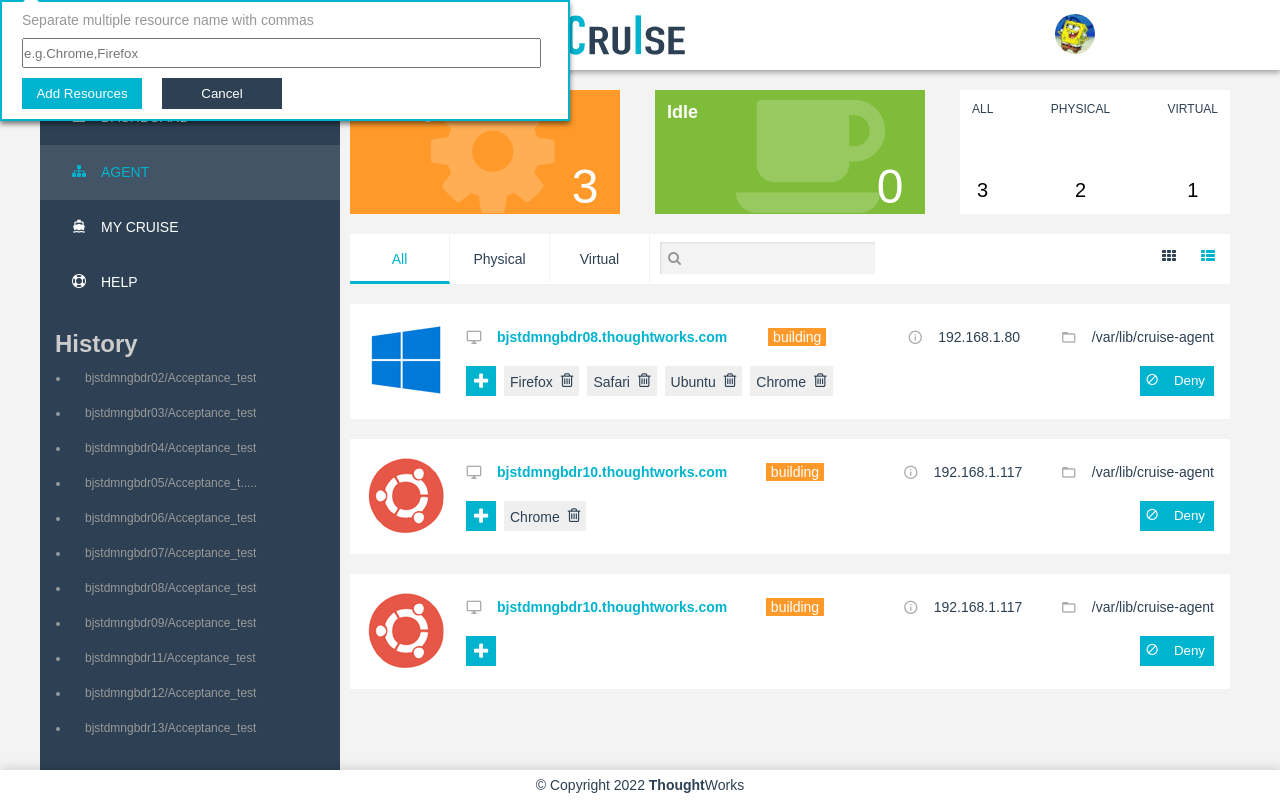
Test: App › should make popup box invisible when click cancel button
Click the button "Cancel": (222, 94) [162,78,282,109]
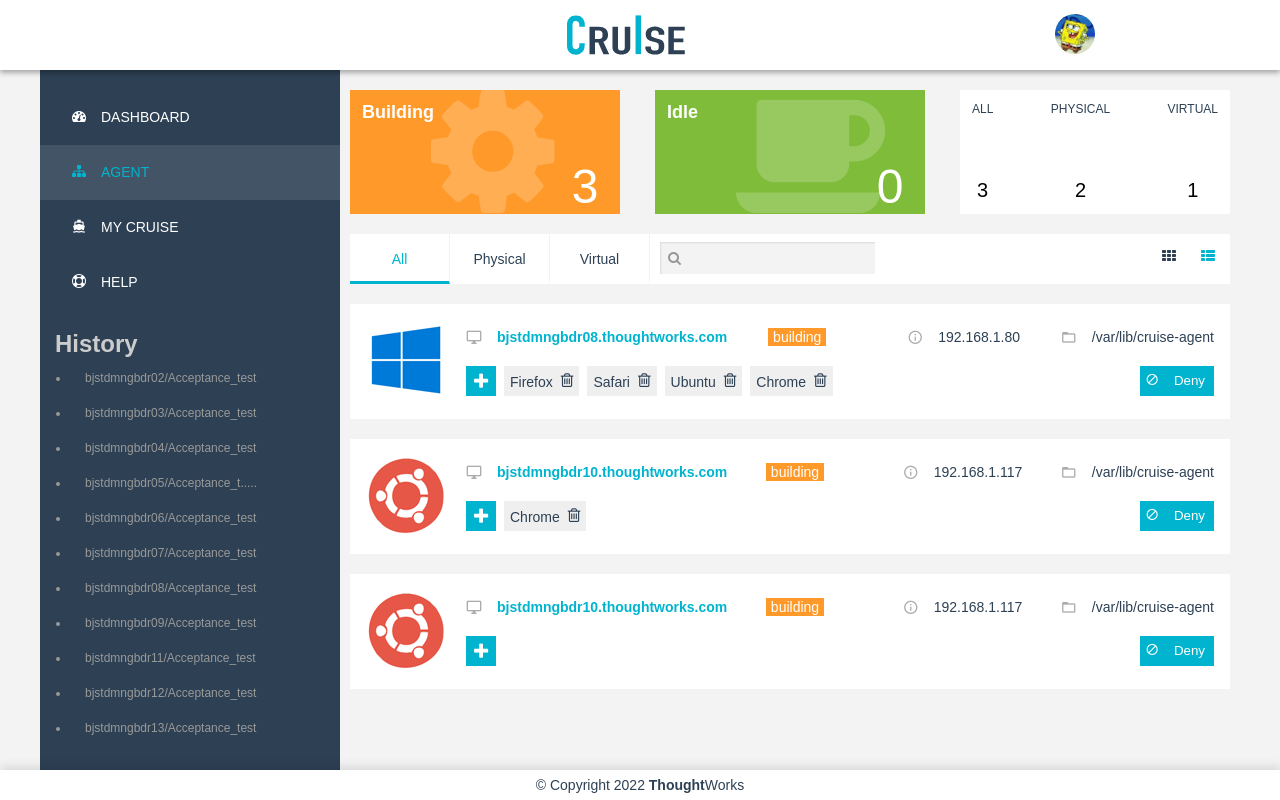
Expected: the element with test id "popup-box" is gone
